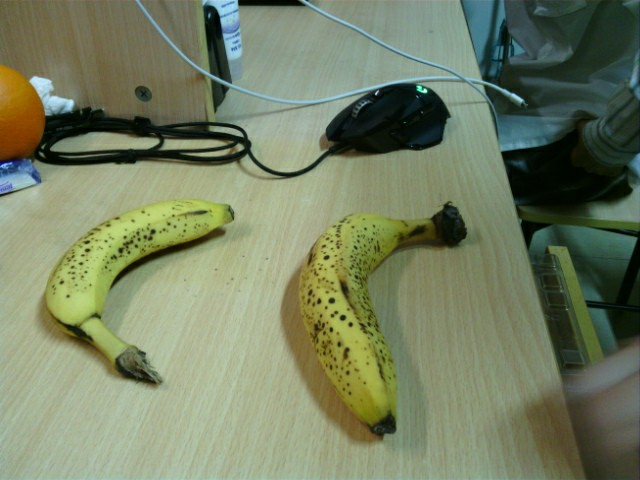normal_banana: (301, 202, 468, 435), (44, 199, 234, 388)
